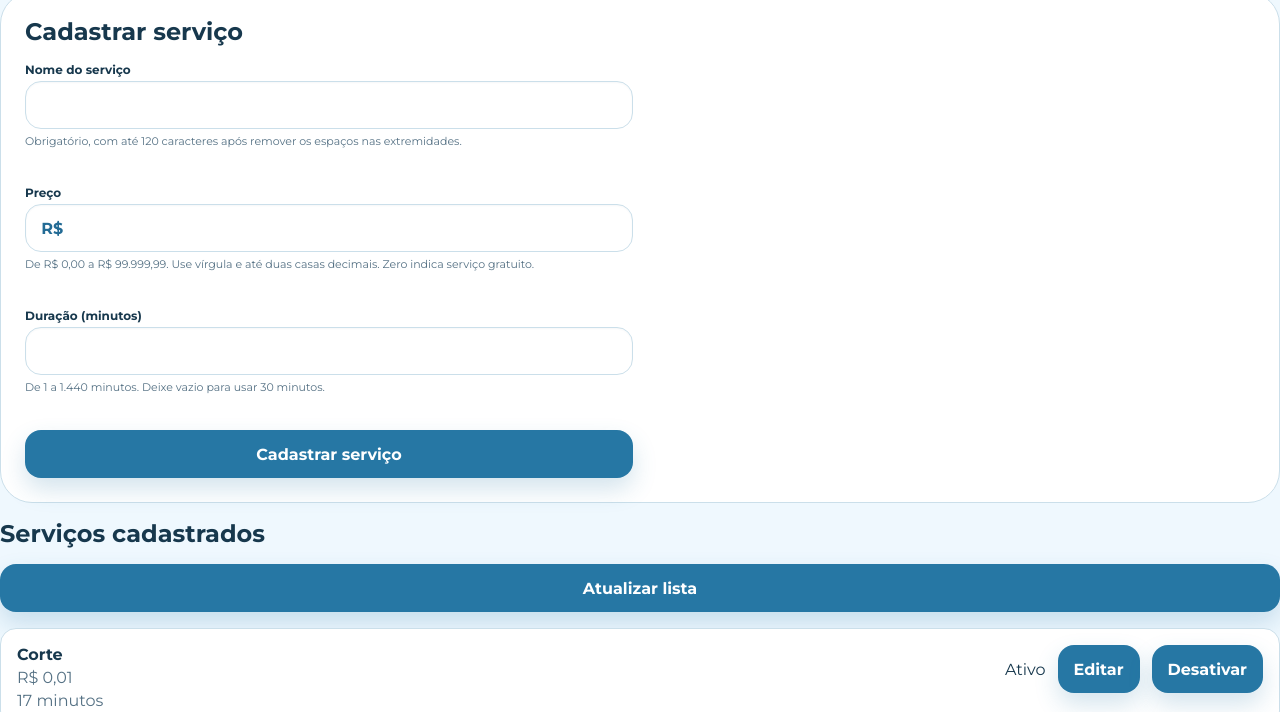
reconciliação após edição ambígua atualiza também o catálogo
The width and height of the screenshot is (1280, 712).
Click the button with aria-label "Editar Corte" at (1098, 669), box [1058,645,1140,693]
(page scrolled)
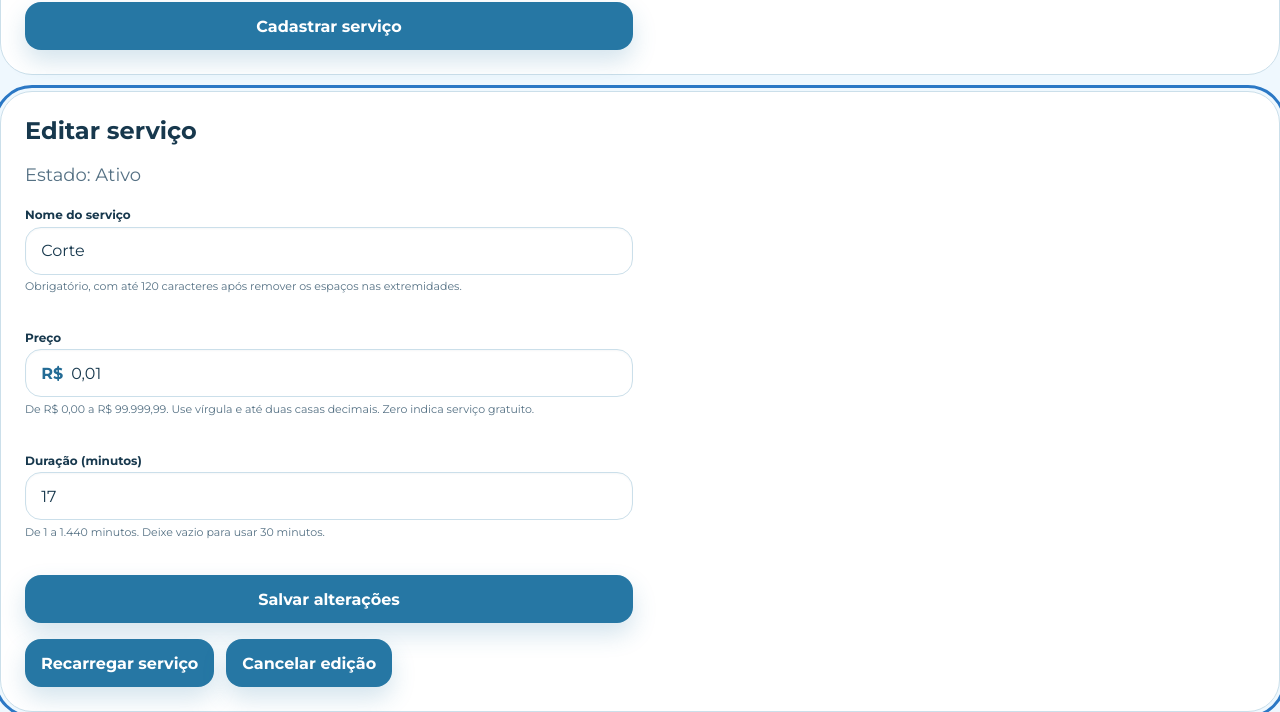
Check: the field labelled "Preço" is shown
Replace the text in the field labelled "Preço" with "2,00" at (348, 373), box [63,350,632,396]
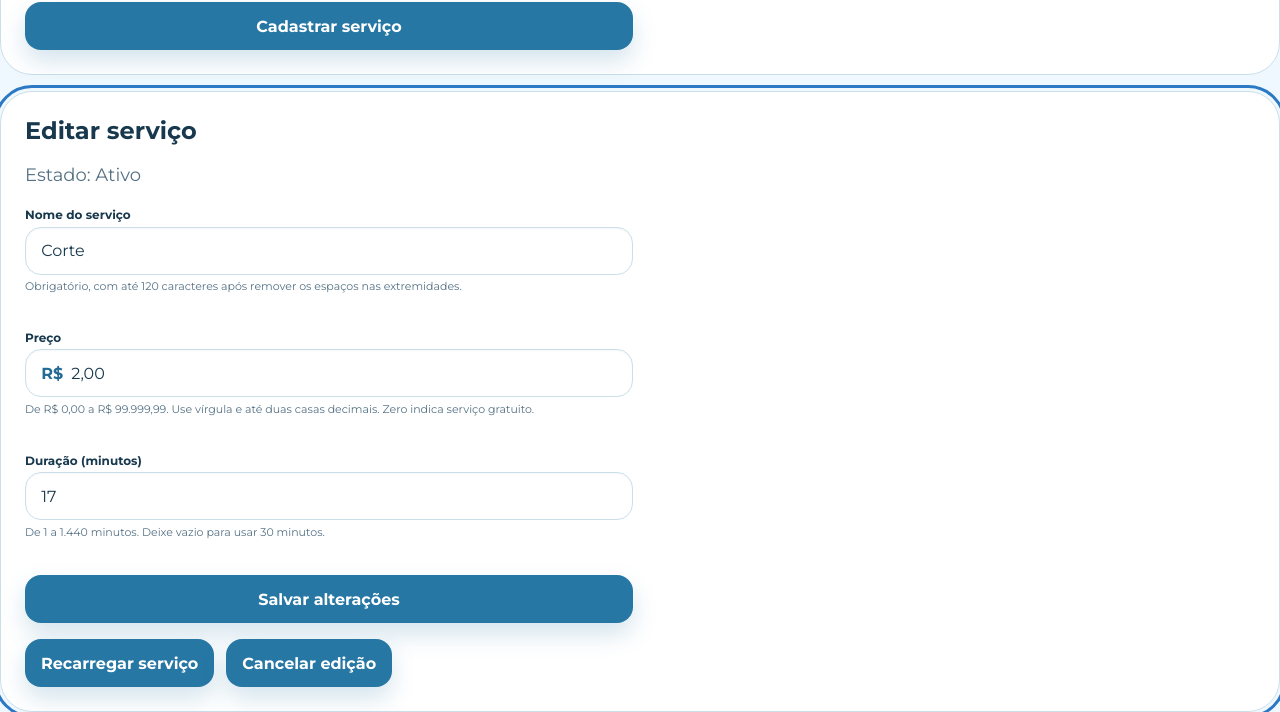
Click the button "Salvar alterações" at (329, 599), box [25,575,633,623]
(page scrolled)
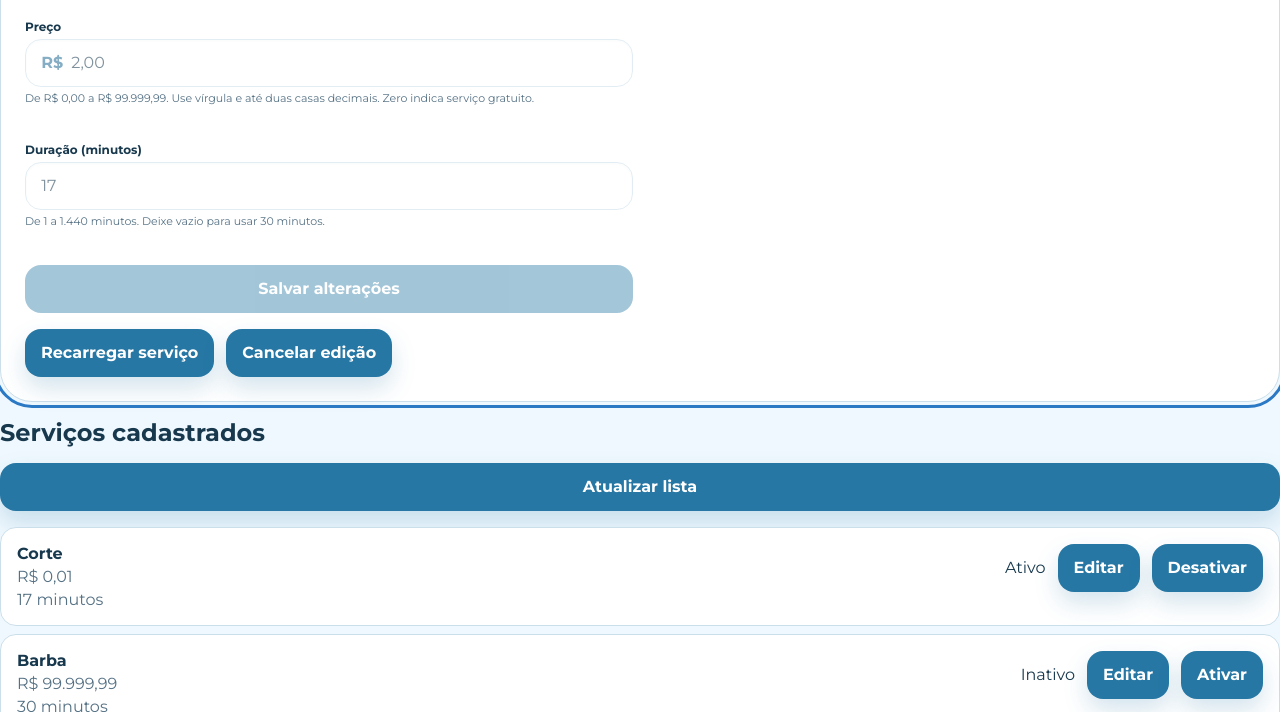
Click the button "Recarregar serviço" at (120, 353), box [25,329,214,377]
(page scrolled)
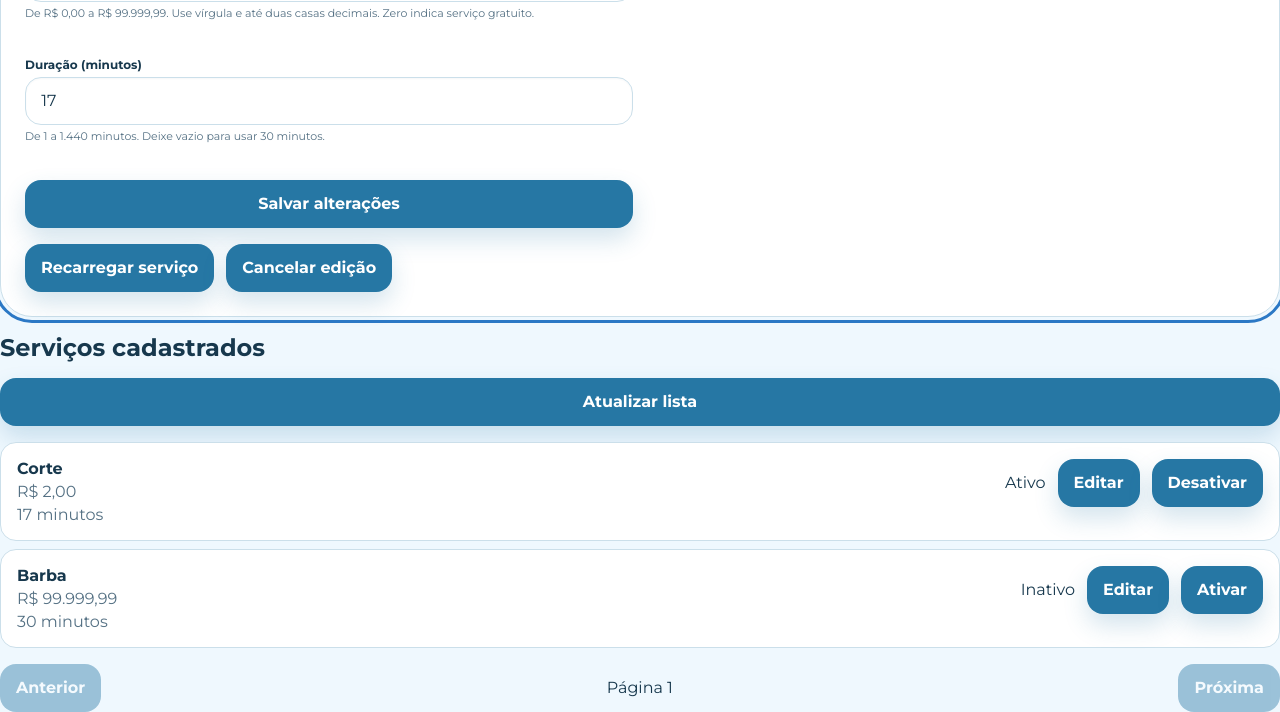
Check: the button "Salvar alterações" is enabled, box [25,180,633,228]
